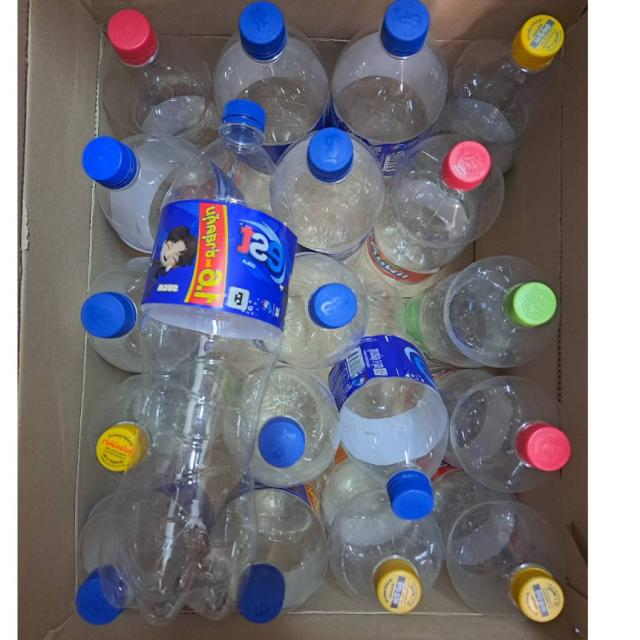plastik: (99, 100, 296, 624), (330, 271, 448, 519), (368, 134, 504, 287), (331, 0, 448, 176), (436, 470, 565, 623), (213, 1, 328, 158), (449, 14, 563, 172), (407, 256, 558, 367), (436, 369, 571, 492), (100, 9, 221, 146), (328, 485, 444, 614), (277, 127, 385, 259), (83, 134, 199, 253), (237, 488, 327, 623), (251, 365, 340, 487), (280, 253, 367, 369), (81, 257, 150, 372)
